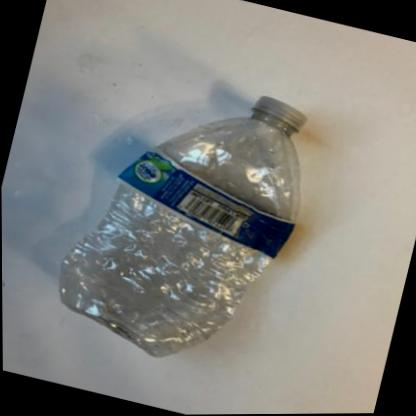Plastic: (57, 96, 305, 358)
